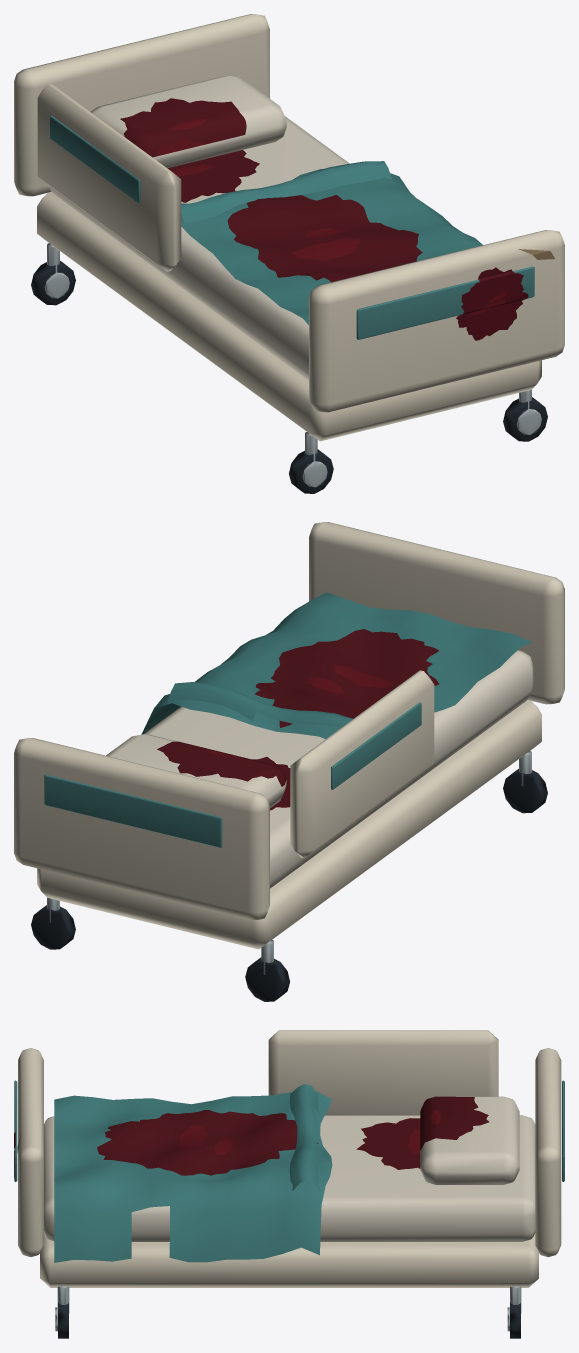
File: recovery_bed_open_px.glb
3 views of the same model, one above another, from view 1: azimuth 30°, elevation 25°; view 2: azimuth 150°, elevation 25°; view 3: azimuth 270°, elevation 25° (orthographic). The views are drawn at different scales.
Parts seen in each view (by area): view 1: recovery_bed_open_px; view 2: recovery_bed_open_px; view 3: recovery_bed_open_px.
Part boxes in pixels (bbox=[...]): recovery_bed_open_px: bbox=[14, 14, 564, 493]; recovery_bed_open_px: bbox=[14, 522, 564, 1001]; recovery_bed_open_px: bbox=[14, 1030, 564, 1338].
Bounding box in the file's own units: 1.09 × 0.87 × 2.11.
